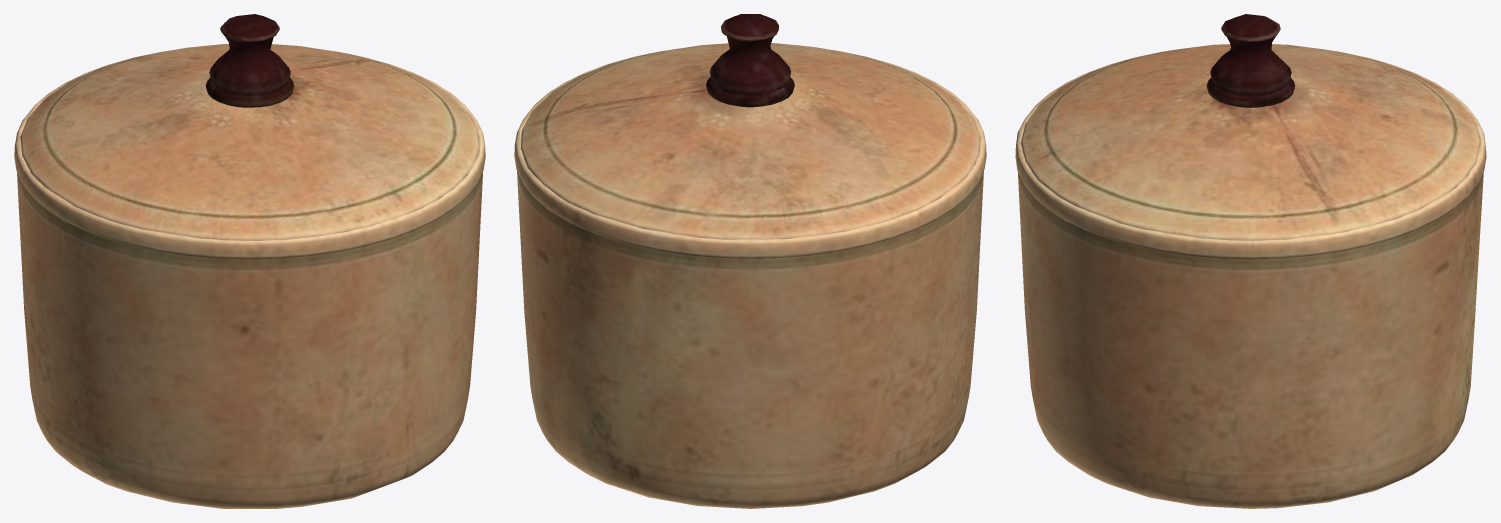
The model's file is brass_pot.glb.
The picture shows the model from 3 angles, left to right: view 1: azimuth 30°, elevation 25°; view 2: azimuth 150°, elevation 25°; view 3: azimuth 270°, elevation 25°; orthographic projection.
Size of the model in its own units: 0.3019 by 0.2909 by 0.3017.
1 material, 1 textured.
